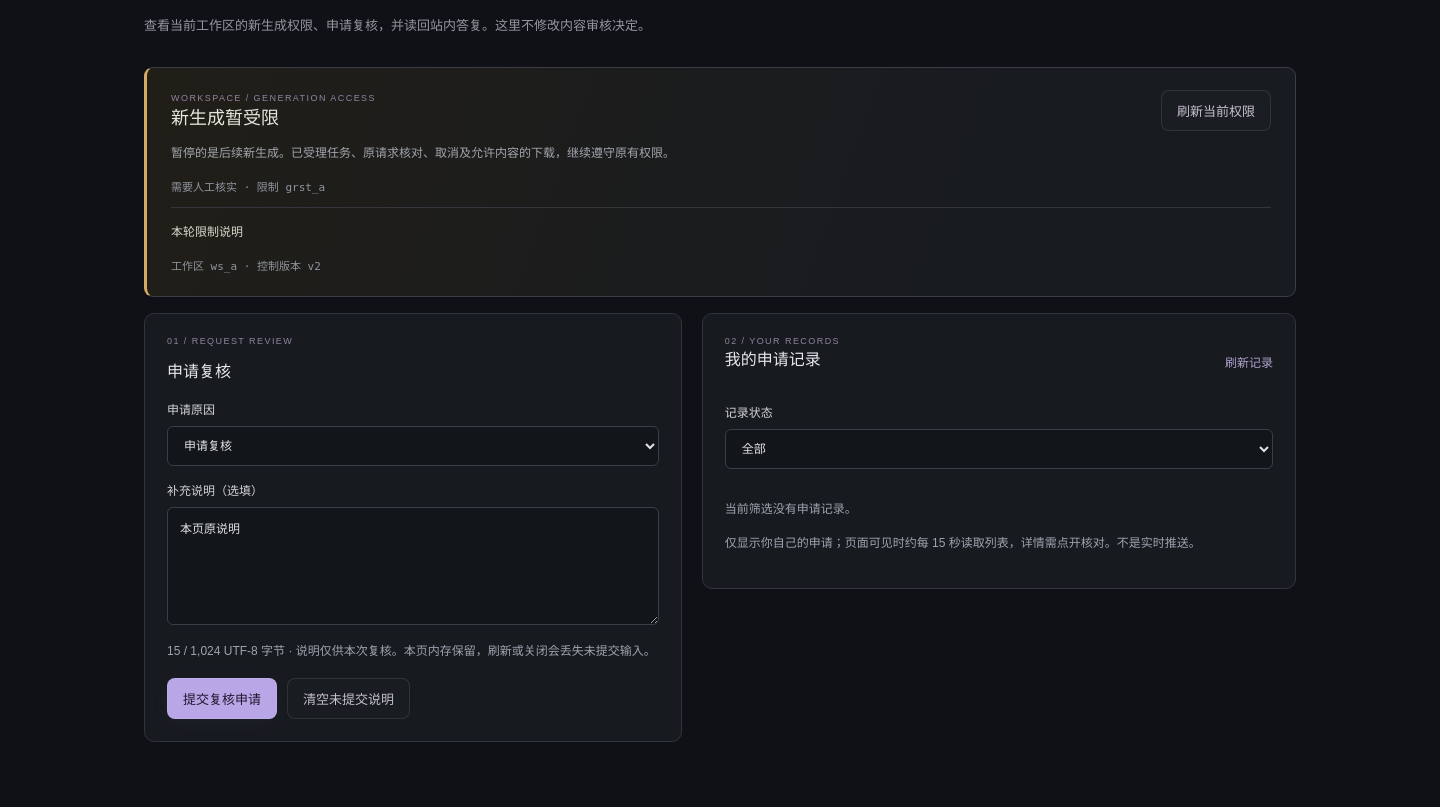
actual React StrictMode reads and superseded requests › does not let the old mounted appeal POST success clear a reauthenticated original-key retry
This screenshot has width=1440, height=807.
Later steps or results of the test are not shown.
(page scrolled)
Click the button "提交复核申请" at {"x": 222, "y": 698}, box [167, 678, 277, 719]
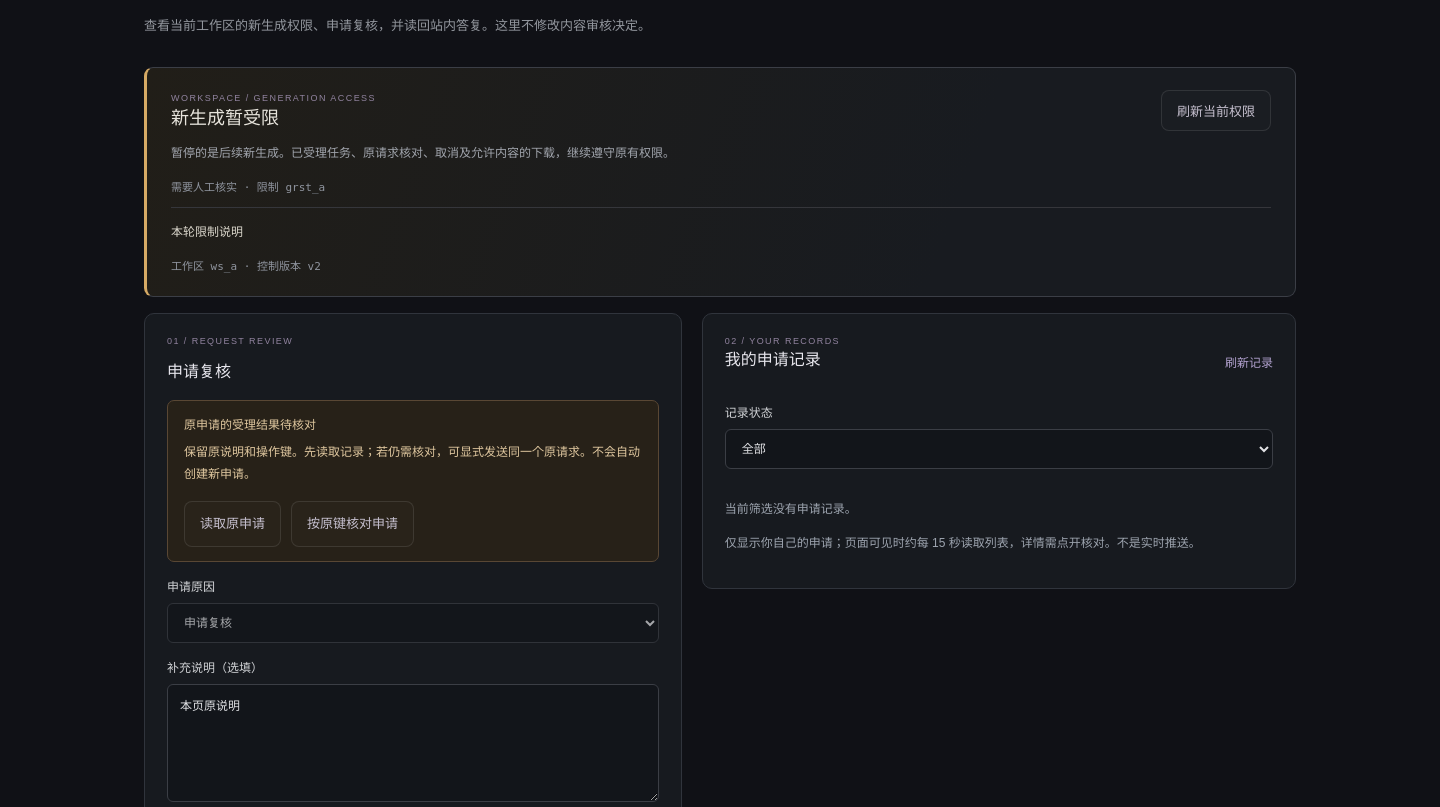
Check: the button "按原键核对申请" is shown
Click the button "按原键核对申请" at {"x": 352, "y": 524}, box [291, 501, 414, 547]
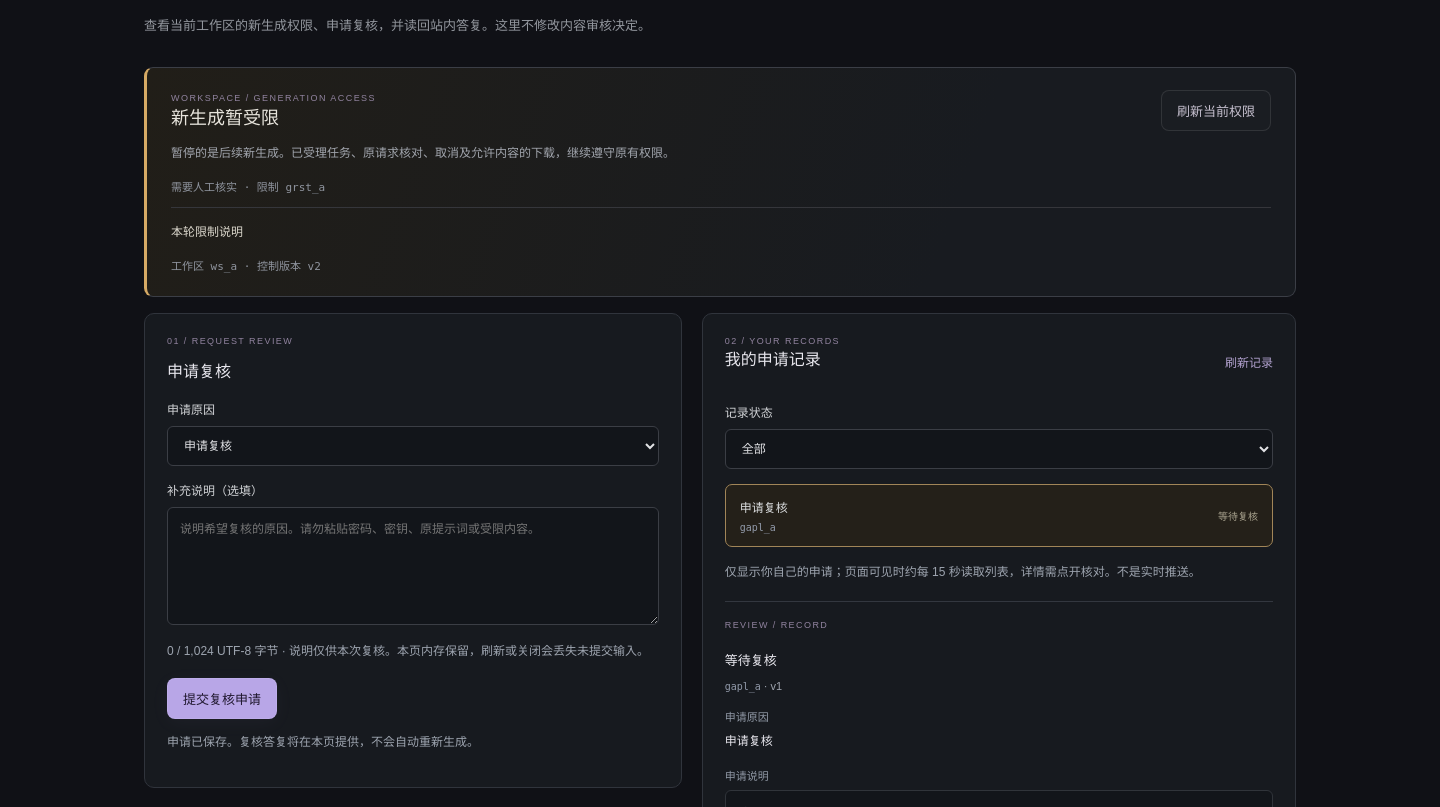
Check: the text "申请已保存" is shown, box [167, 735, 479, 749]
